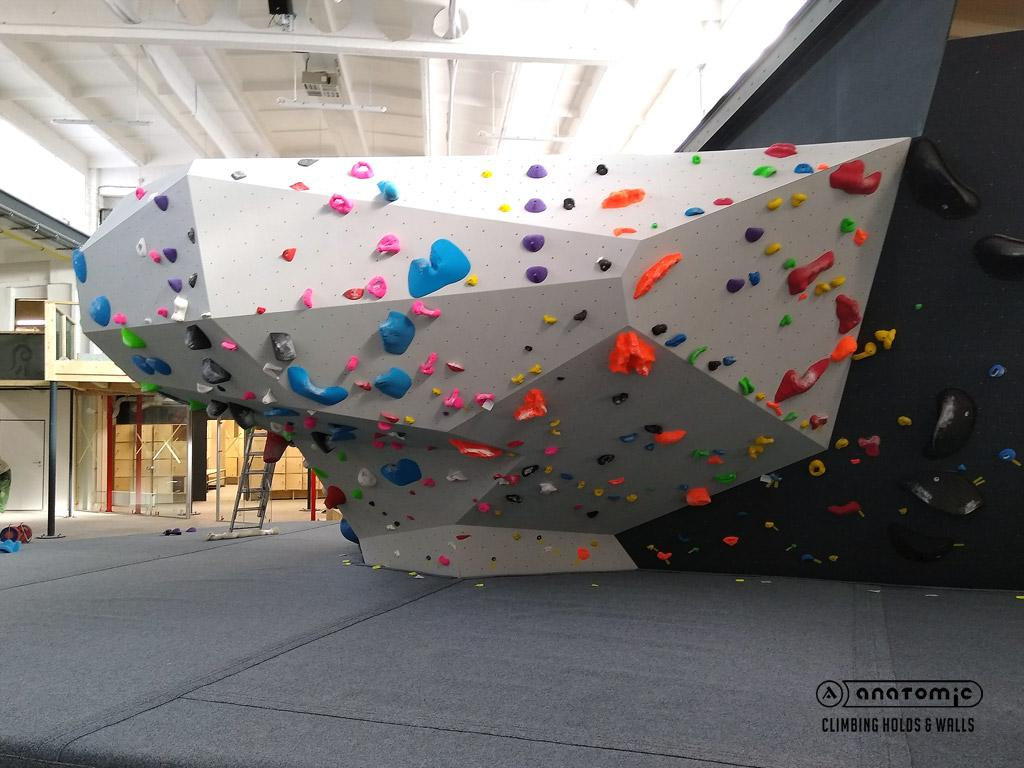black-hold: (883, 129, 988, 240), (898, 452, 992, 528), (392, 231, 476, 311), (922, 384, 981, 466), (278, 360, 351, 416), (764, 353, 839, 406), (881, 520, 956, 571), (625, 244, 686, 304), (779, 242, 841, 300), (369, 306, 422, 361), (606, 329, 660, 379), (974, 233, 1024, 282), (371, 360, 416, 404), (829, 160, 882, 195), (378, 454, 424, 492), (193, 355, 235, 394), (445, 437, 505, 463), (832, 291, 865, 336), (83, 292, 121, 330), (823, 331, 862, 368), (510, 387, 549, 423), (257, 430, 291, 469), (114, 325, 152, 356), (222, 401, 259, 432), (268, 327, 298, 365), (760, 136, 800, 164), (599, 187, 647, 210), (308, 423, 340, 457), (408, 296, 444, 325), (827, 495, 863, 522), (325, 189, 356, 219), (334, 517, 363, 549), (347, 157, 379, 186), (129, 349, 157, 382), (363, 272, 393, 301), (319, 482, 349, 511), (375, 175, 403, 206), (416, 351, 445, 380), (183, 322, 212, 351), (143, 353, 175, 379), (325, 422, 361, 445), (848, 340, 880, 363), (203, 397, 230, 424), (374, 232, 402, 258), (685, 340, 710, 367), (169, 294, 190, 324), (442, 386, 467, 411), (734, 374, 759, 399), (662, 330, 689, 352), (71, 250, 88, 284), (873, 328, 898, 351), (857, 434, 881, 457), (654, 430, 687, 446), (260, 360, 285, 381), (257, 386, 279, 409), (787, 188, 810, 210), (686, 487, 712, 506), (762, 398, 786, 418), (712, 469, 738, 487), (849, 227, 870, 249), (776, 311, 797, 332), (279, 243, 300, 264), (519, 460, 541, 480), (764, 194, 786, 214), (525, 265, 548, 284), (522, 234, 545, 253), (262, 407, 301, 418), (611, 223, 639, 238), (996, 445, 1018, 464), (153, 192, 172, 214), (762, 239, 784, 258), (473, 391, 496, 409), (689, 445, 712, 463), (358, 467, 377, 488), (503, 469, 524, 488), (649, 320, 670, 339), (187, 398, 209, 416), (618, 429, 641, 446), (752, 164, 778, 179), (838, 215, 857, 235), (524, 198, 547, 214), (378, 411, 402, 426), (828, 273, 849, 290), (193, 381, 215, 397), (344, 354, 361, 374), (387, 428, 407, 445), (726, 278, 746, 295), (309, 466, 330, 482), (744, 227, 765, 243), (526, 164, 548, 179), (595, 452, 617, 467), (444, 470, 469, 483), (166, 277, 184, 295), (230, 167, 248, 185), (595, 256, 613, 274), (463, 272, 481, 290), (808, 459, 826, 477), (147, 247, 164, 266), (832, 435, 851, 452), (813, 281, 833, 297), (219, 338, 240, 353), (682, 205, 706, 218), (793, 161, 815, 175), (300, 287, 314, 309), (526, 362, 544, 379), (987, 363, 1006, 379), (111, 311, 130, 327), (809, 414, 828, 430), (131, 185, 148, 202), (781, 255, 799, 271), (611, 391, 629, 407), (134, 236, 147, 258), (538, 482, 558, 496), (341, 288, 364, 300), (575, 546, 592, 562), (508, 372, 526, 387), (780, 410, 799, 424), (186, 270, 200, 289), (140, 382, 164, 393), (162, 248, 178, 264), (497, 201, 513, 217), (748, 444, 764, 460), (435, 553, 452, 568), (721, 353, 739, 367), (267, 421, 285, 435), (643, 423, 664, 435), (541, 313, 559, 327), (506, 437, 525, 450), (607, 475, 626, 488), (302, 415, 317, 431), (689, 152, 704, 168), (504, 493, 524, 505), (547, 415, 563, 430), (748, 271, 762, 288), (571, 309, 588, 323), (754, 435, 775, 446), (335, 449, 350, 464), (562, 196, 576, 212), (767, 471, 784, 484), (623, 492, 640, 505), (353, 381, 373, 392), (713, 196, 735, 206), (296, 159, 320, 168), (446, 362, 467, 372), (290, 182, 311, 192), (595, 163, 610, 177), (656, 550, 673, 562), (350, 487, 364, 501), (798, 417, 812, 431), (477, 501, 492, 514), (402, 414, 417, 427), (479, 168, 494, 181), (559, 471, 575, 483), (376, 421, 392, 433), (897, 415, 913, 427), (796, 291, 810, 304), (676, 533, 691, 545), (421, 476, 436, 488), (281, 430, 296, 442), (585, 509, 601, 520), (187, 226, 196, 245), (722, 536, 739, 546), (371, 439, 386, 450), (707, 361, 722, 372), (706, 455, 724, 464), (643, 442, 656, 454), (678, 481, 691, 493), (300, 459, 312, 472), (430, 386, 443, 398), (575, 479, 588, 491), (373, 431, 387, 442), (799, 552, 814, 562), (242, 391, 257, 401), (390, 441, 404, 451), (592, 487, 606, 497), (544, 447, 559, 456), (446, 540, 458, 551), (286, 438, 297, 450), (142, 316, 153, 327), (492, 507, 503, 518), (215, 384, 227, 394), (711, 449, 728, 456), (816, 162, 830, 170), (157, 308, 168, 318), (649, 221, 660, 231), (755, 392, 766, 402), (956, 463, 968, 472), (285, 419, 295, 429), (543, 465, 553, 475), (320, 486, 329, 497), (386, 523, 397, 532), (284, 424, 295, 433), (523, 344, 534, 353), (607, 495, 621, 502), (200, 311, 212, 319), (456, 534, 472, 540), (492, 473, 504, 481), (550, 429, 562, 437), (392, 549, 401, 559), (256, 306, 266, 315), (392, 519, 401, 528), (764, 521, 774, 529), (828, 555, 839, 562), (736, 511, 748, 517), (306, 410, 318, 416), (310, 443, 319, 451), (914, 302, 923, 310), (898, 507, 907, 515), (506, 451, 517, 457), (424, 554, 432, 562), (512, 533, 521, 540), (646, 544, 655, 551), (850, 458, 860, 464), (381, 510, 389, 517), (556, 376, 565, 382), (368, 501, 376, 507), (590, 541, 598, 547), (648, 486, 655, 492), (536, 534, 542, 541), (491, 557, 496, 562)
